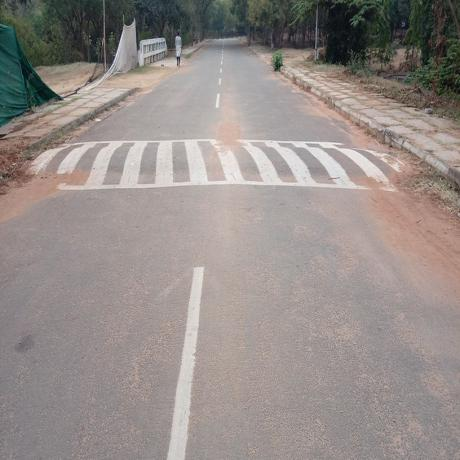Speed Bump: (21, 134, 427, 196)
